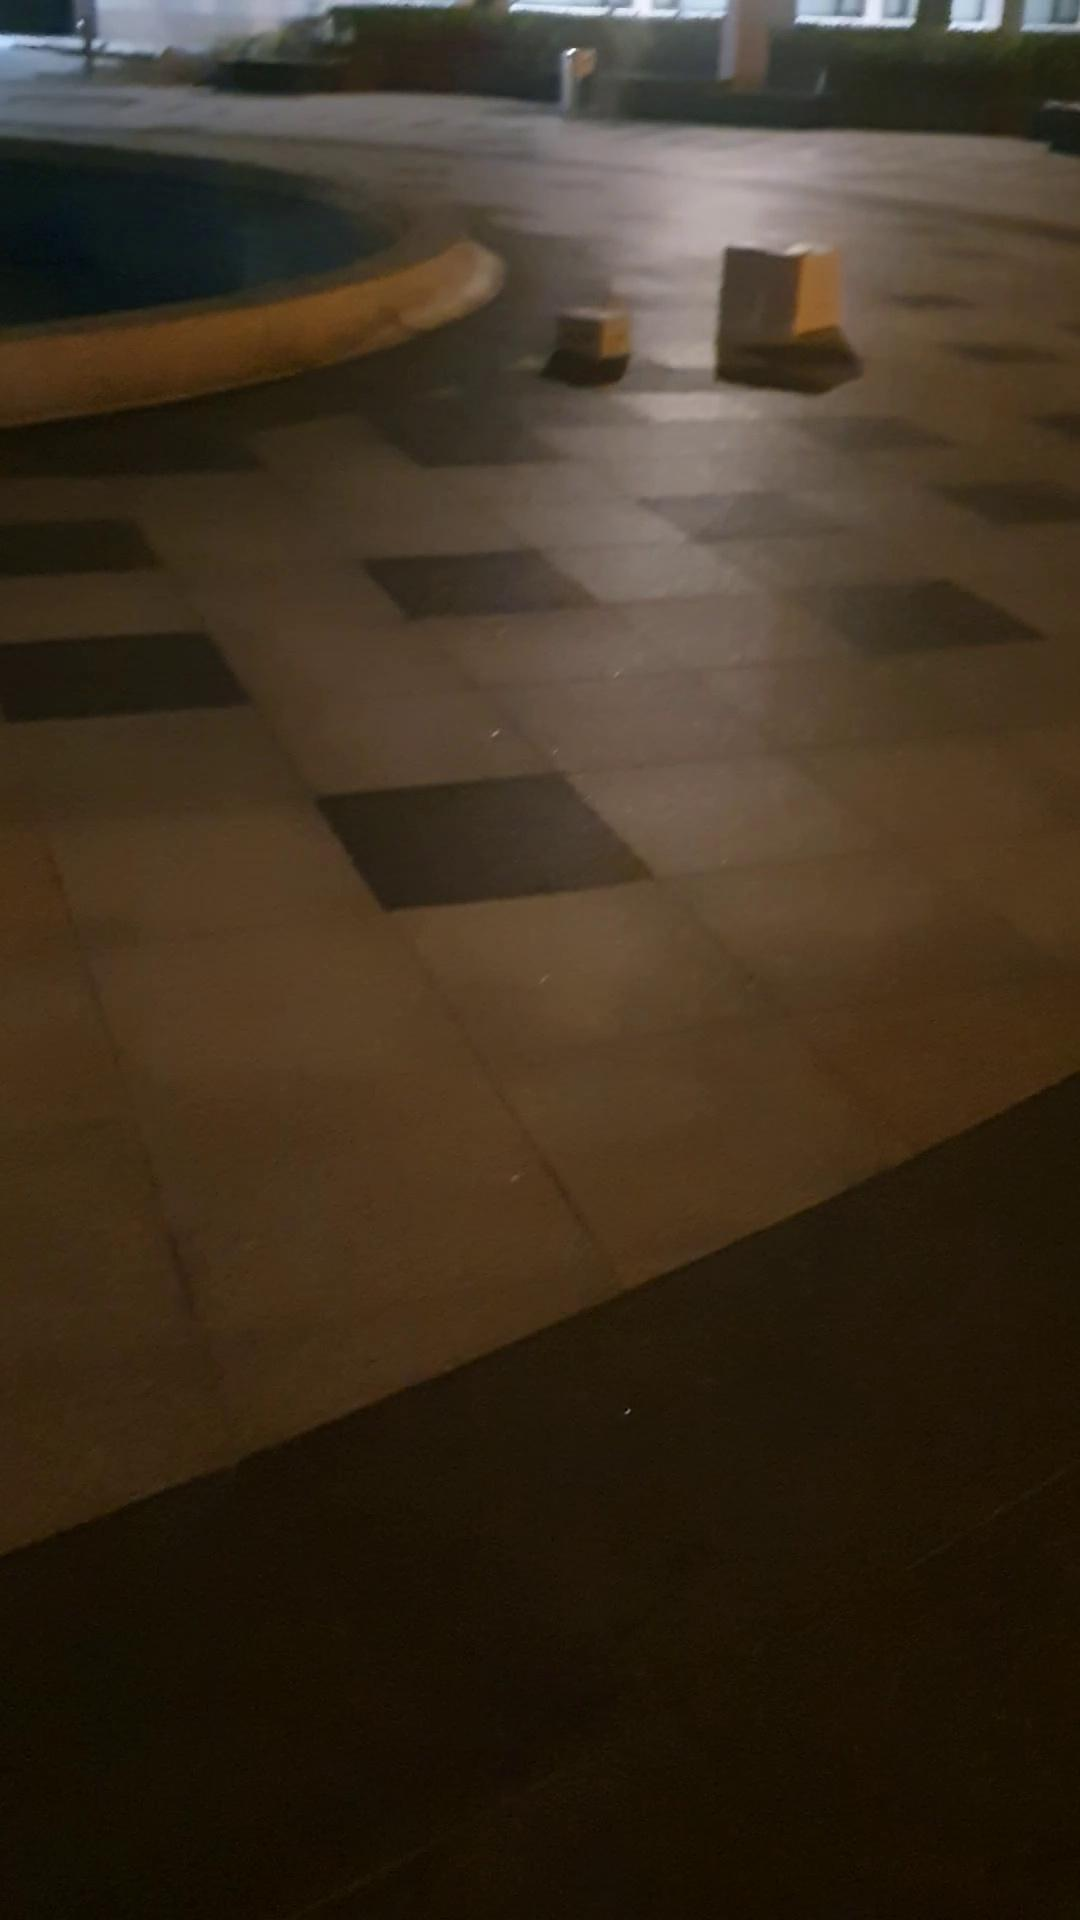Box: (728, 233, 839, 347), (533, 298, 637, 355)
